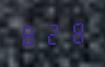eight: (18, 21, 39, 47), (63, 19, 84, 45)
two: (41, 20, 62, 46)
